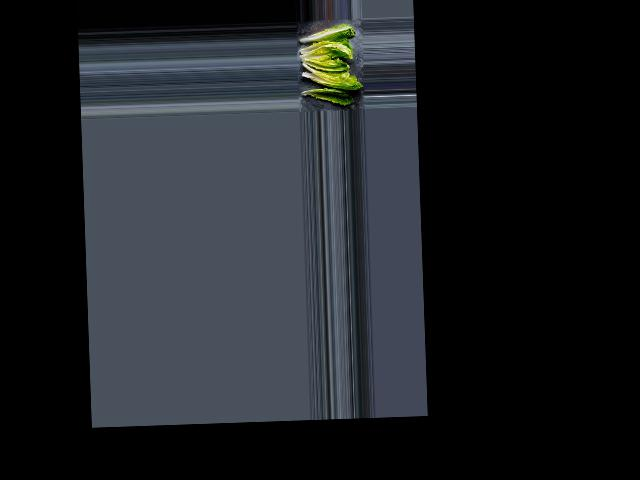lettuce: (299, 86, 352, 105)
